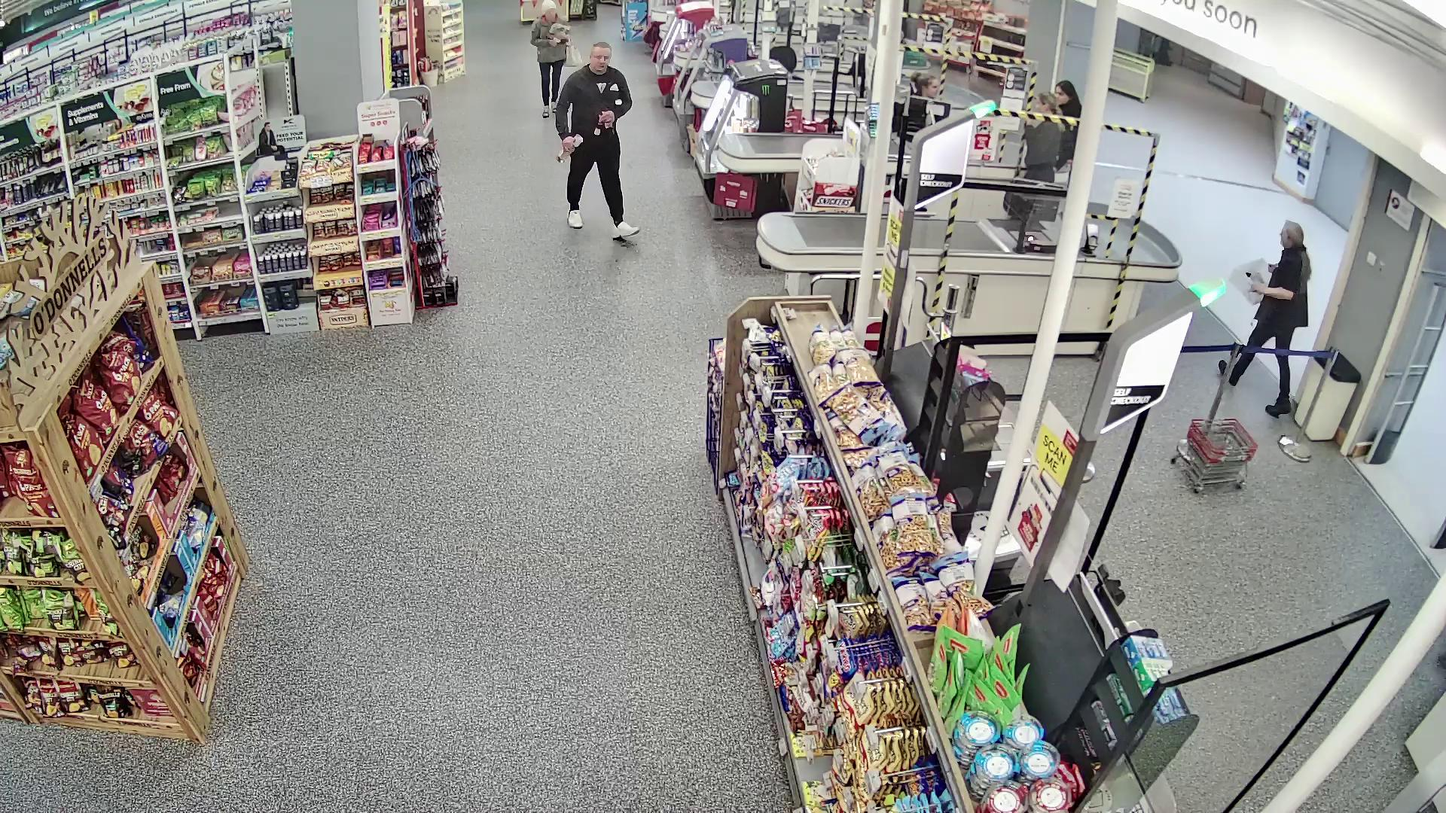carrying-item: (555, 132, 583, 164), (593, 105, 615, 139), (547, 24, 571, 45)
filled-shopping-bags: (565, 45, 583, 68)
person: (555, 42, 640, 240), (531, 1, 570, 118)
person with carrying item-s- and shopping bag-s-: (531, 0, 583, 118)
person-with-carrying-item: (554, 42, 639, 238)
